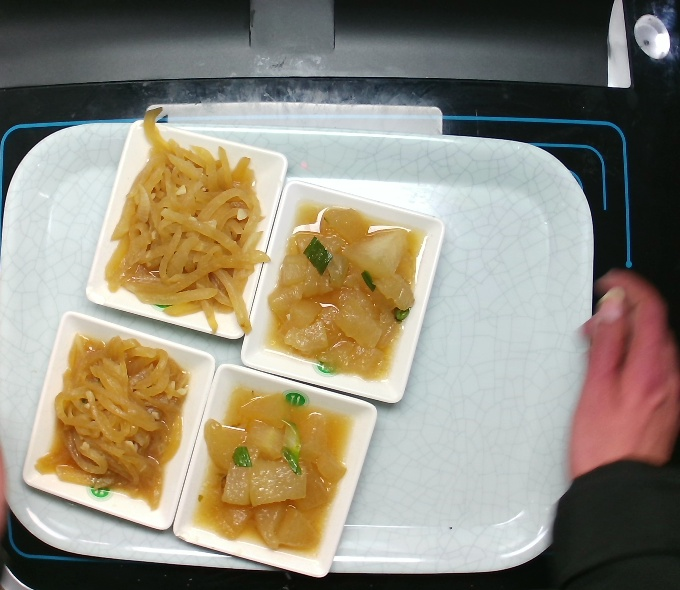wcq-DongGua: (265, 196, 434, 390), (190, 383, 359, 577)
wcq-LuoBoSi: (103, 106, 277, 336), (31, 331, 192, 514)
